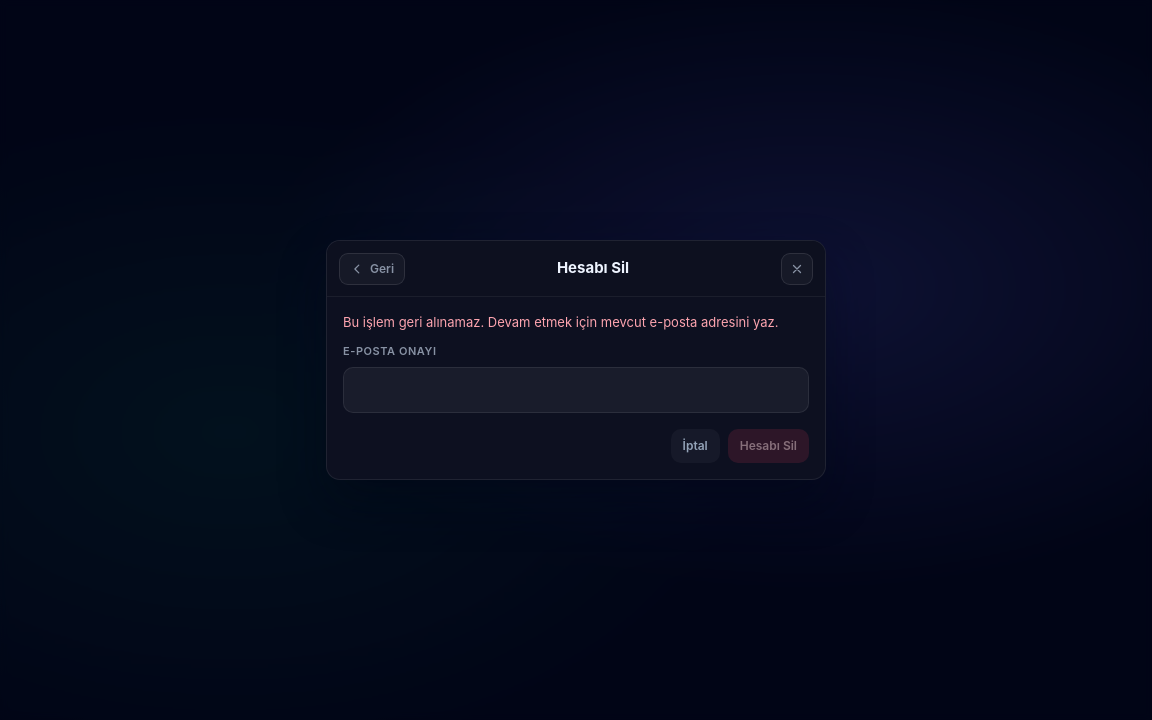
Test: DeleteAccountModal › blocks mismatched email confirmation
The width and height of the screenshot is (1152, 720).
In the field labelled "E-POSTA ONAYI": (576, 390) [343,367,809,413], type "other@example.com"
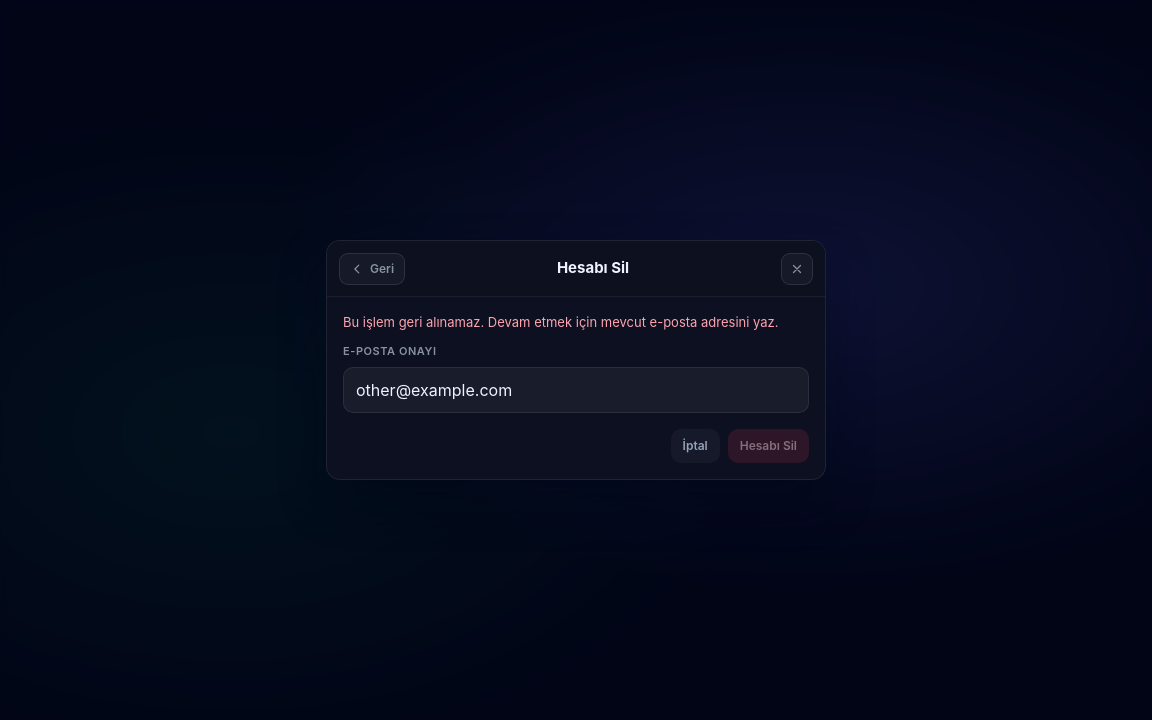
Leave the field labelled "E-POSTA ONAYI", box [343,367,809,413]
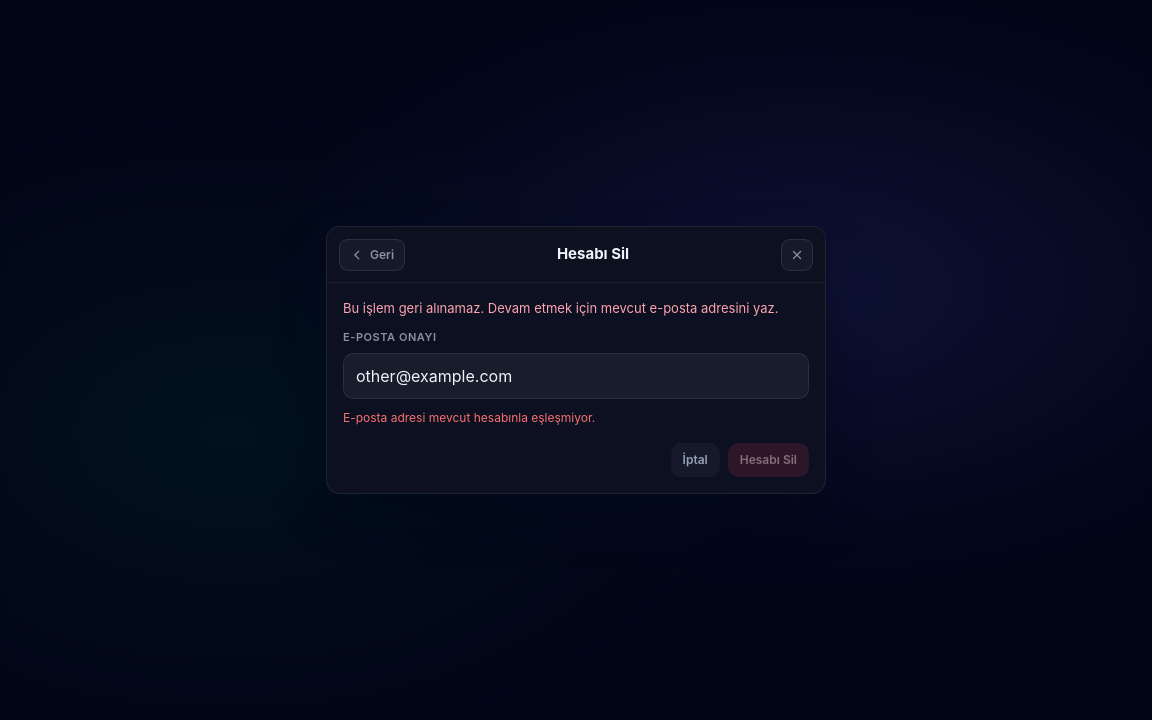
Expected: the button with class "danger" is disabled, [728,443,809,477]
Now the text "E-posta adresi mevcut hesabınla eşleşmiyor." is shown, box [343,410,595,425]
